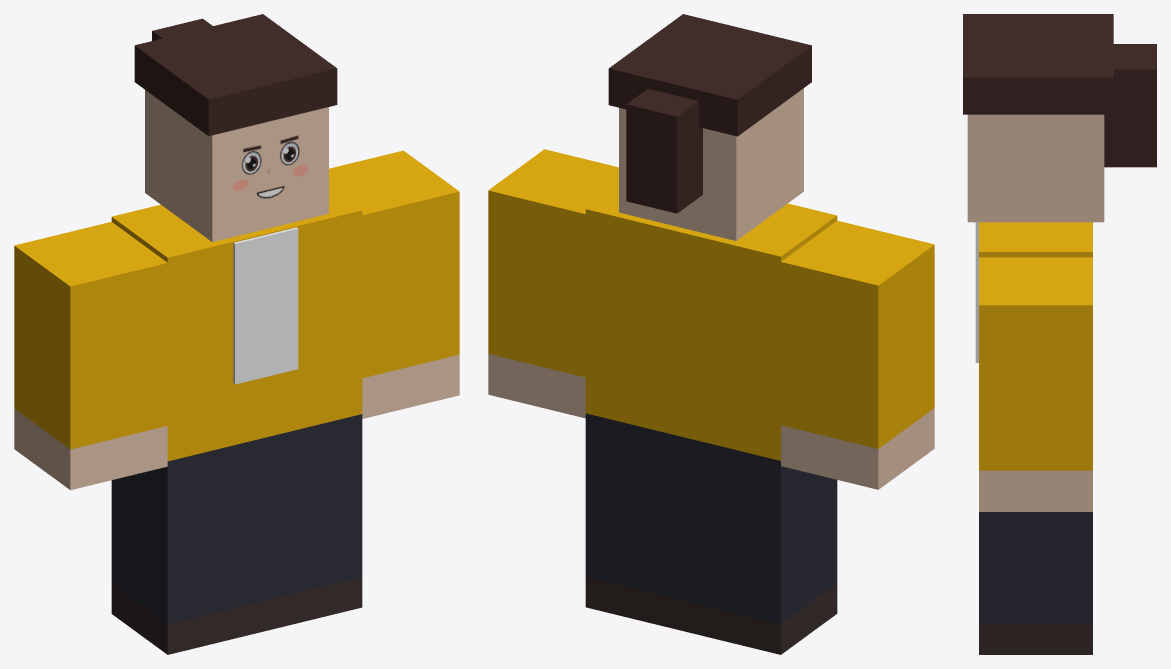
File: Mia_full.obj
3 views of the same model, side by side, from view 1: azimuth 30°, elevation 25°; view 2: azimuth 150°, elevation 25°; view 3: azimuth 270°, elevation 25° (orthographic).
Visible parts, largest first — view 1: UpperTorso, Head, LeftUpperArm, Hair_Crown, RightUpperArm, LeftLowerLeg, LeftLowerArm, LowerTorso, LeftUpperLeg, InnerShirtCollar, RightUpperLeg, RightLowerArm (+5 smaller); view 2: UpperTorso, LeftUpperArm, Hair_Crown, RightUpperArm, Head, LeftLowerLeg, LeftLowerArm, LowerTorso, LeftUpperLeg, Hair_Ponytail, RightUpperLeg, RightLowerLeg (+5 smaller); view 3: Hair_Crown, Head, RightUpperArm, RightLowerArm, RightLowerLeg, Hair_Ponytail, RightHand, UpperTorso, RightFoot, RightUpperLeg, InnerShirtCollar.
Boxes of the visible parts, box(x1,y1,x2,y2) form: UpperTorso: box(111, 186, 362, 400); Head: box(145, 90, 328, 241); LeftUpperArm: box(14, 222, 167, 367); Hair_Crown: box(134, 14, 337, 135); RightUpperArm: box(329, 150, 459, 296); LeftLowerLeg: box(111, 502, 264, 624); LeftLowerArm: box(14, 327, 167, 449); LowerTorso: box(167, 353, 362, 461); LeftUpperLeg: box(111, 438, 264, 542); InnerShirtCollar: box(233, 227, 298, 384); RightUpperLeg: box(265, 414, 362, 518); RightLowerArm: box(362, 273, 459, 378); UpperTorso: box(585, 185, 837, 399); LeftUpperArm: box(781, 220, 934, 367); Hair_Crown: box(608, 14, 811, 136); RightUpperArm: box(488, 149, 618, 295); Head: box(619, 88, 803, 240); LeftLowerLeg: box(683, 501, 837, 624); LeftLowerArm: box(781, 326, 934, 448); LowerTorso: box(585, 352, 780, 460); LeftUpperLeg: box(683, 437, 837, 542); Hair_Ponytail: box(626, 89, 702, 213); RightUpperLeg: box(585, 413, 683, 518); RightLowerLeg: box(585, 495, 683, 600); Hair_Crown: box(963, 14, 1113, 114); Head: box(967, 114, 1104, 222); RightUpperArm: box(979, 257, 1092, 387); RightLowerArm: box(979, 388, 1092, 470); RightLowerLeg: box(979, 541, 1092, 623); Hair_Ponytail: box(1104, 44, 1156, 167); RightHand: box(979, 470, 1092, 511); UpperTorso: box(979, 222, 1092, 257); RightFoot: box(979, 624, 1092, 654); RightUpperLeg: box(979, 512, 1092, 541); InnerShirtCollar: box(975, 222, 978, 362).
Bounding box in the file's own units: 4 × 5.43 × 1.7.
1 material, 1 textured.
